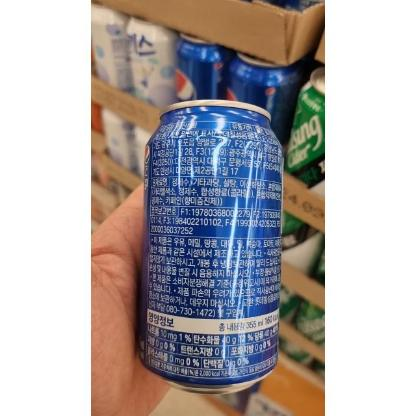Can: (136, 100, 284, 394)
